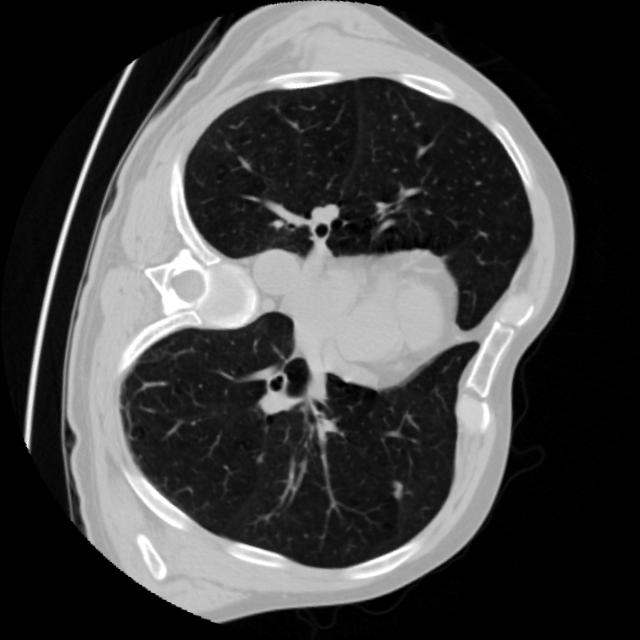nodule: (379, 473, 415, 509)
